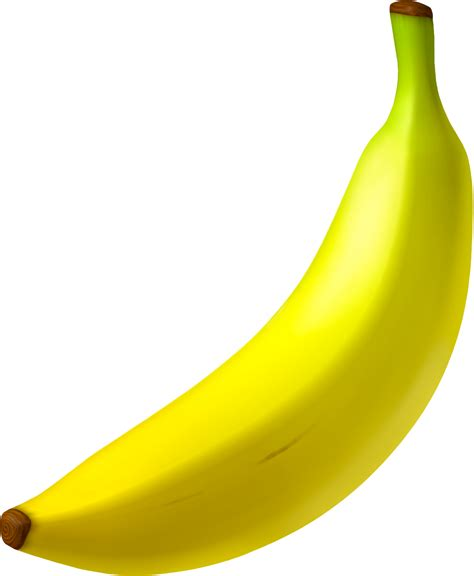banana: (1, 89, 473, 570)
